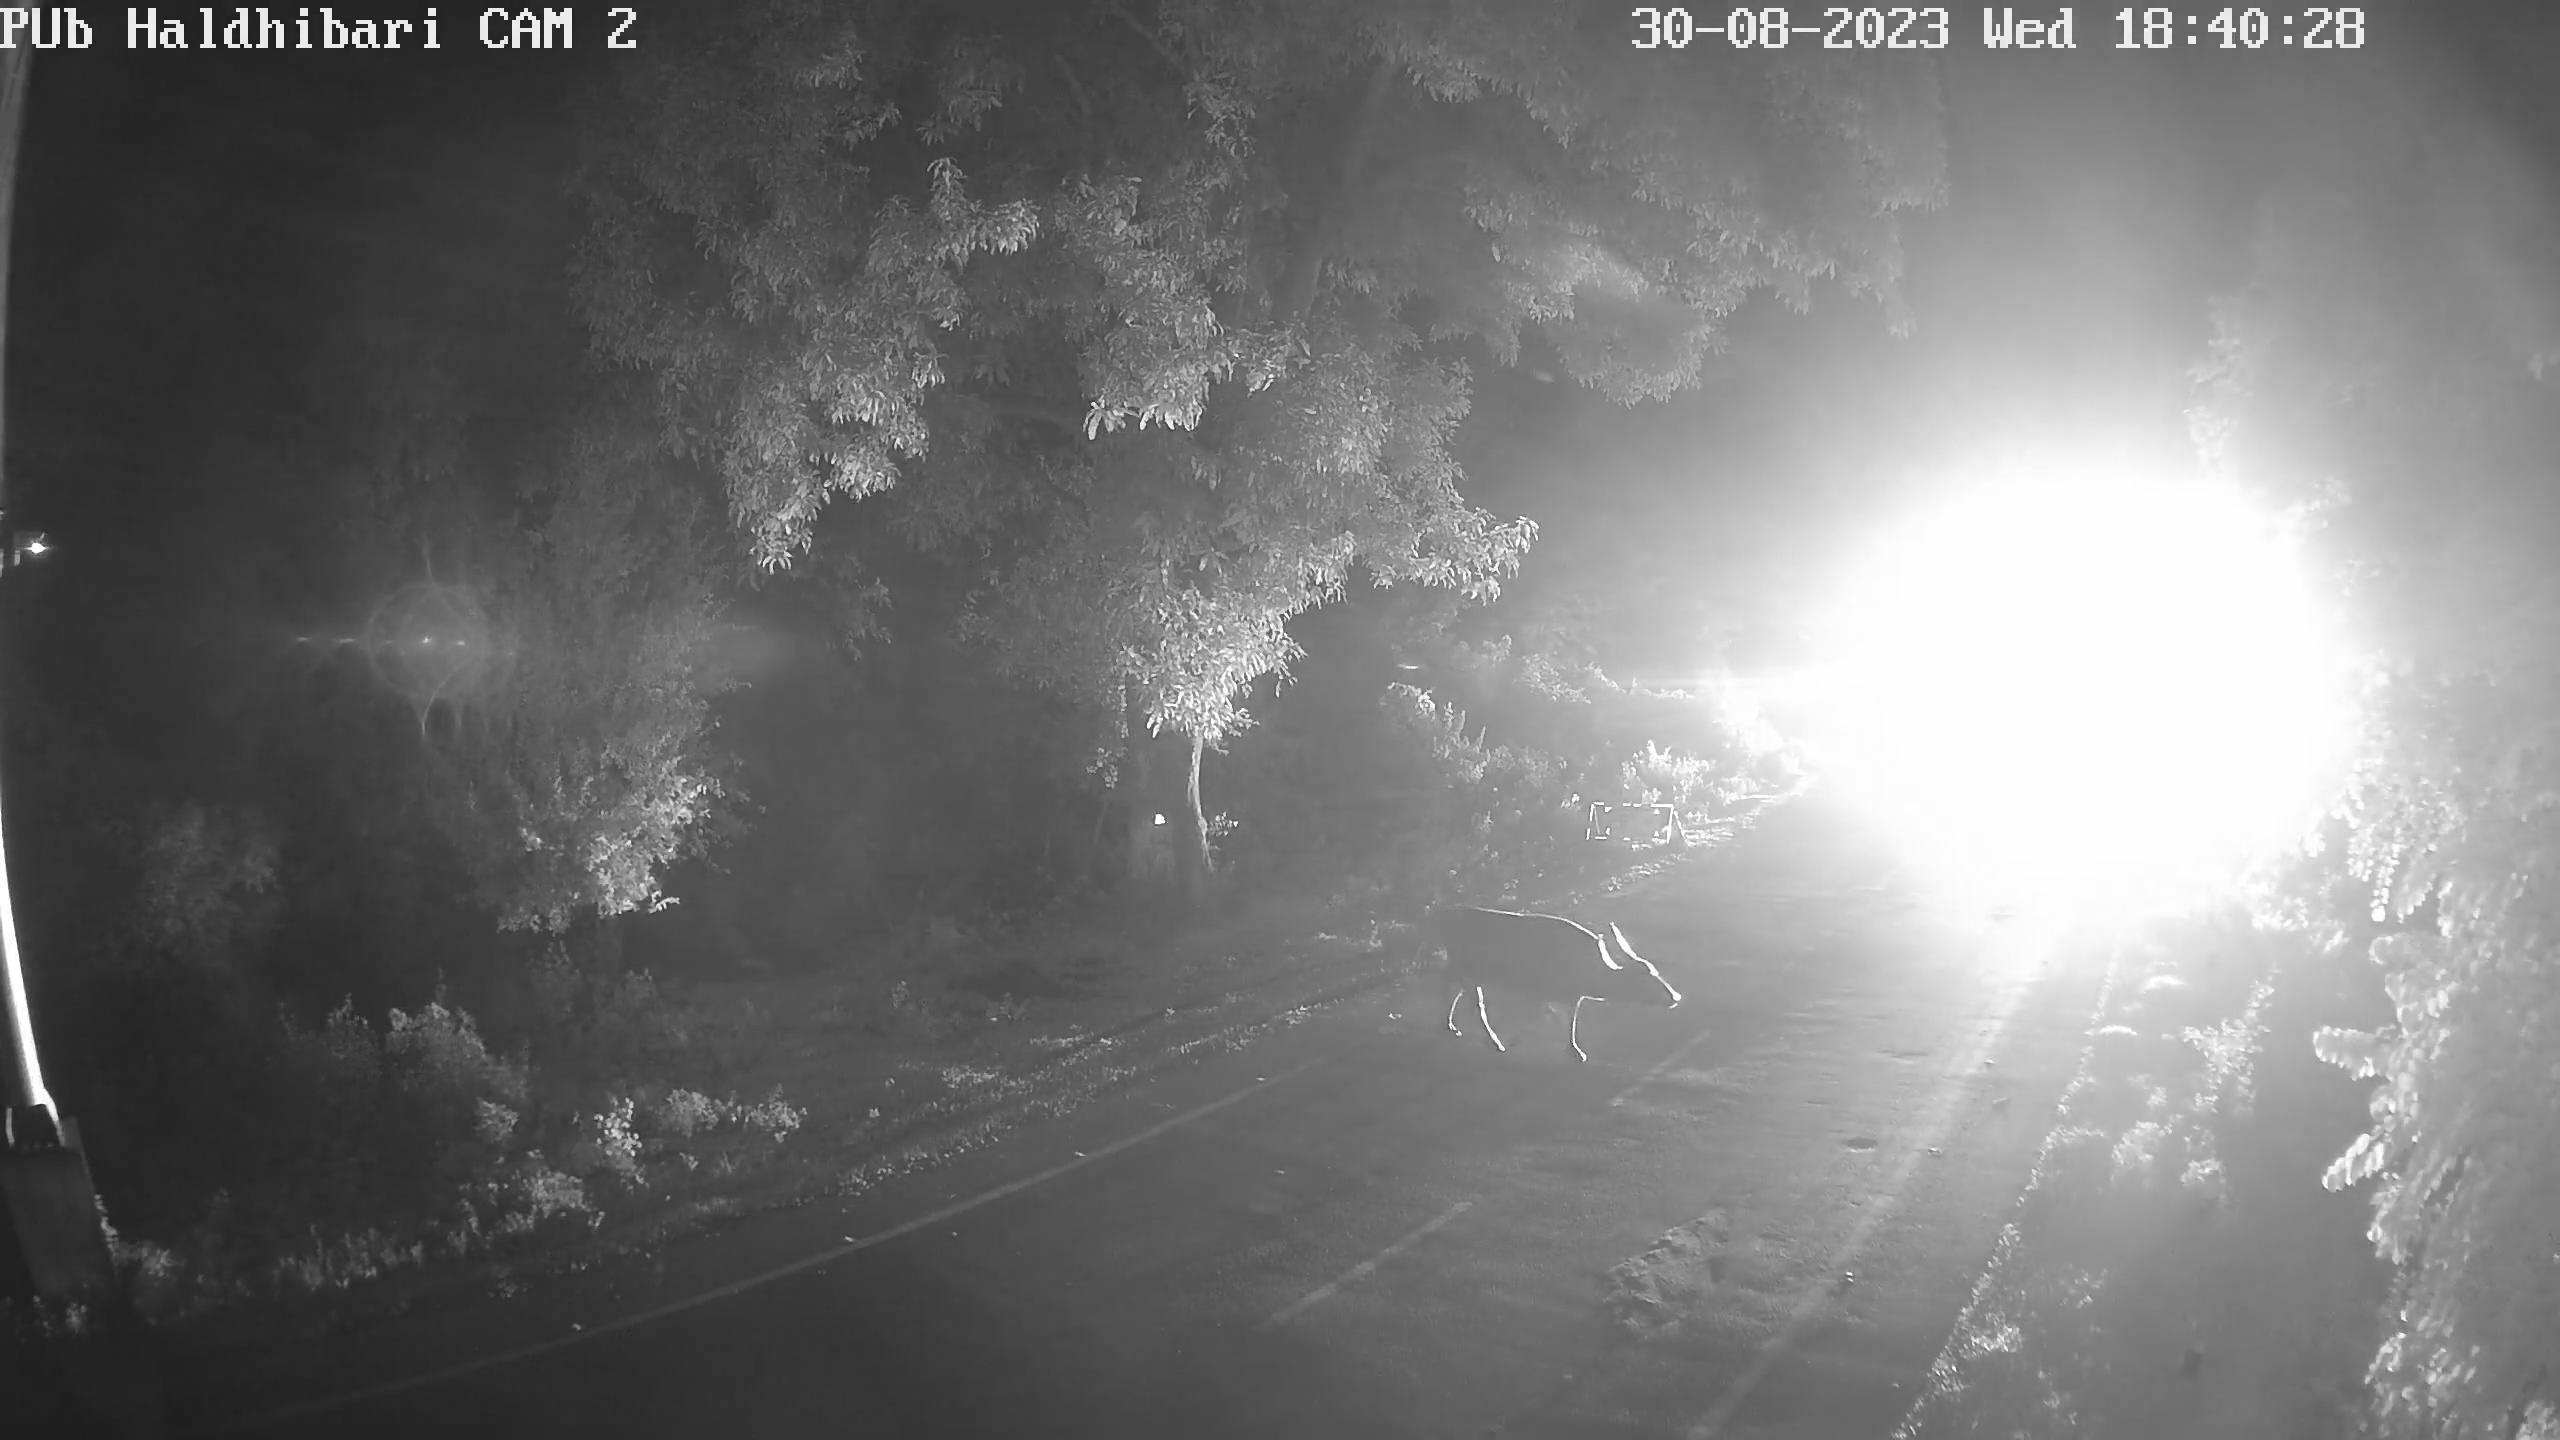buffaloes: (1422, 897, 1681, 1071)
